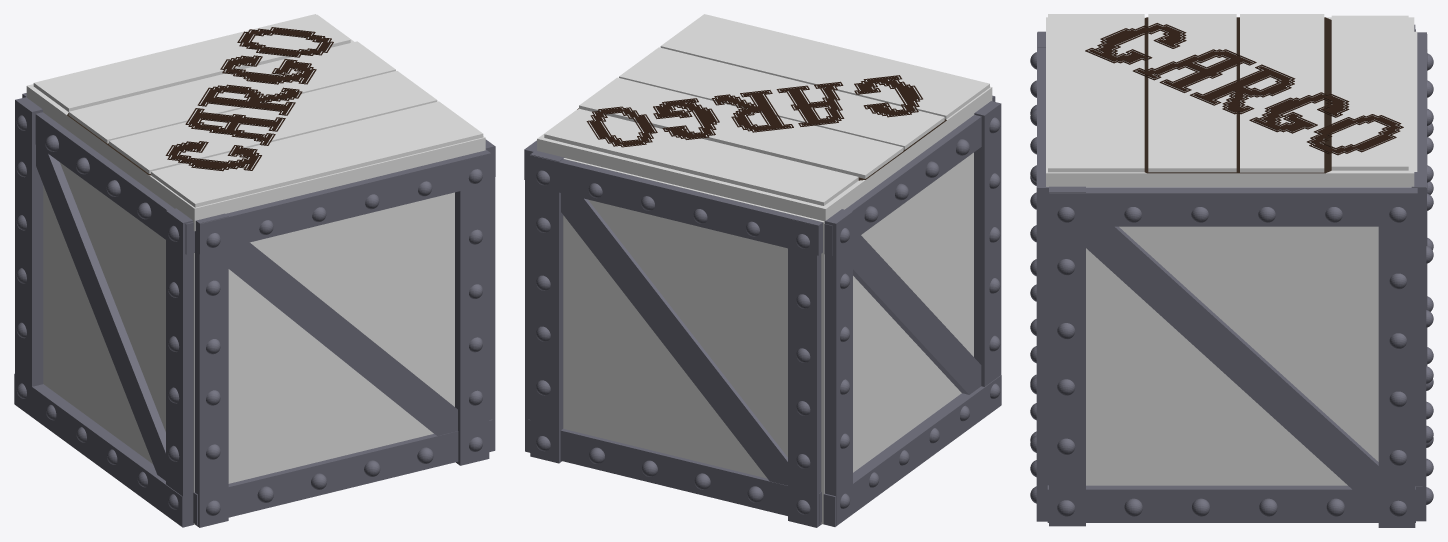
File: crate_opened.fbx
The picture shows the model from 3 angles, left to right: view 1: azimuth 30°, elevation 25°; view 2: azimuth 150°, elevation 25°; view 3: azimuth 270°, elevation 25°; orthographic projection. The views are drawn at different scales.
Parts seen in each view (by area): view 1: Crate_Open; view 2: Crate_Open; view 3: Crate_Open.
Part boxes in pixels (box(x1,y1,x2,y2)): Crate_Open: box(14, 14, 495, 527); Crate_Open: box(524, 14, 1001, 527); Crate_Open: box(1030, 14, 1433, 527).
Size of the model in its own units: 44.53 by 42.64 by 43.8.
